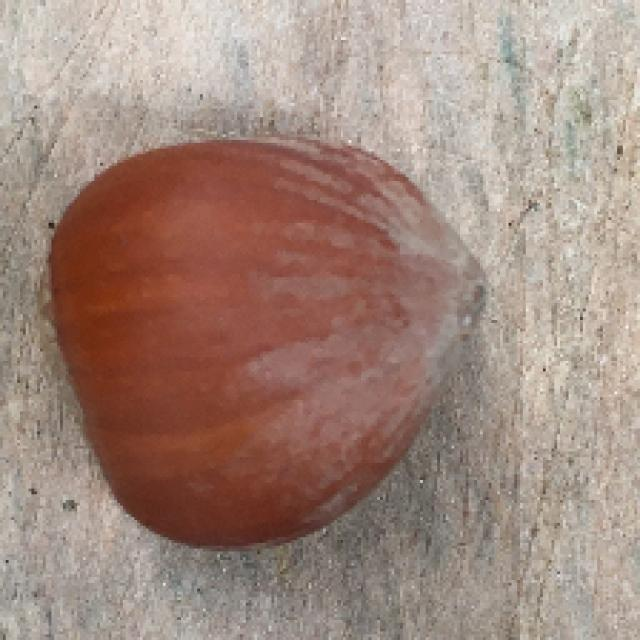qualityHazelnut: (38, 125, 497, 554)
